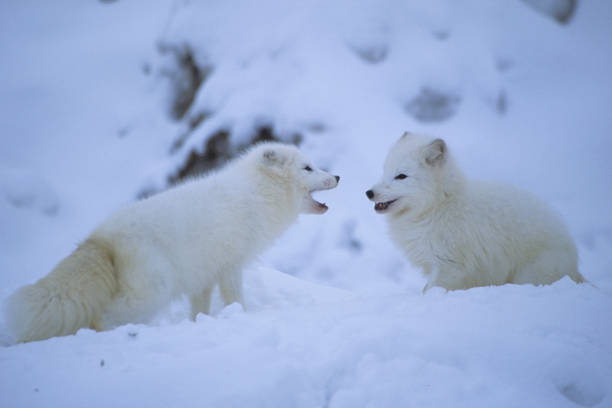arcticfox: (361, 149, 436, 233)
